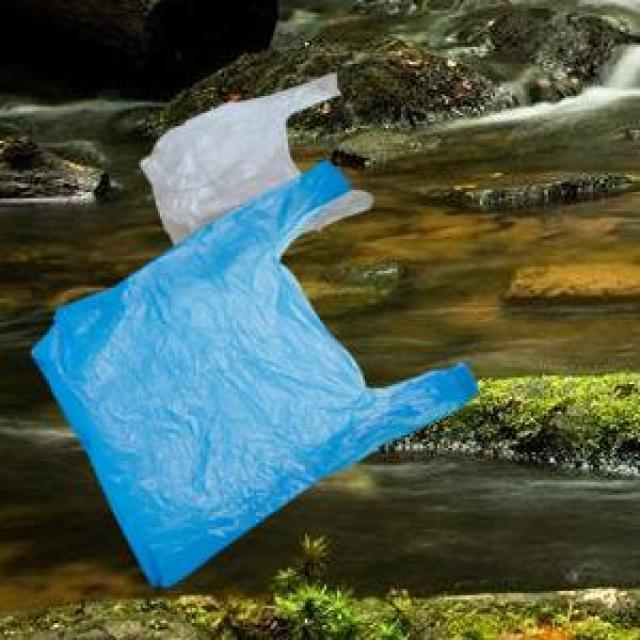waste: (34, 74, 478, 587)
